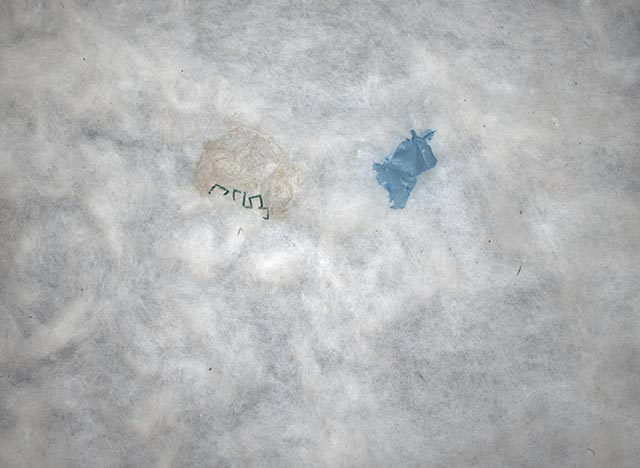plastic film: (191, 115, 305, 225), (372, 126, 438, 211)
